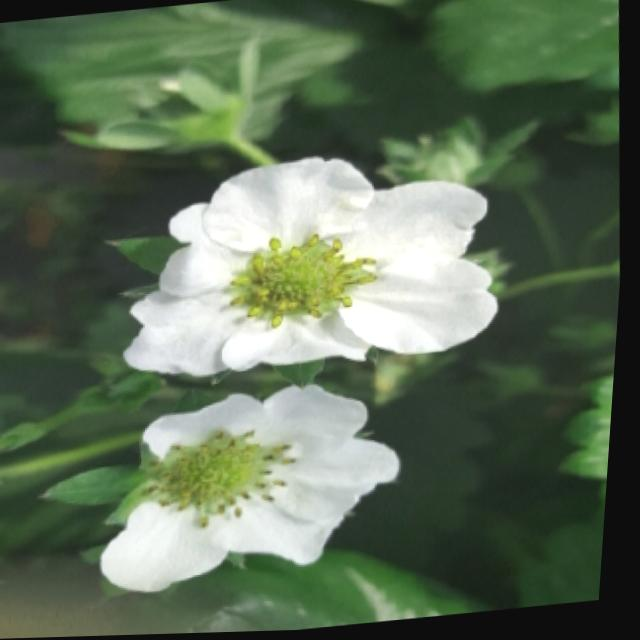Blossom Blight: (144, 424, 306, 532)
